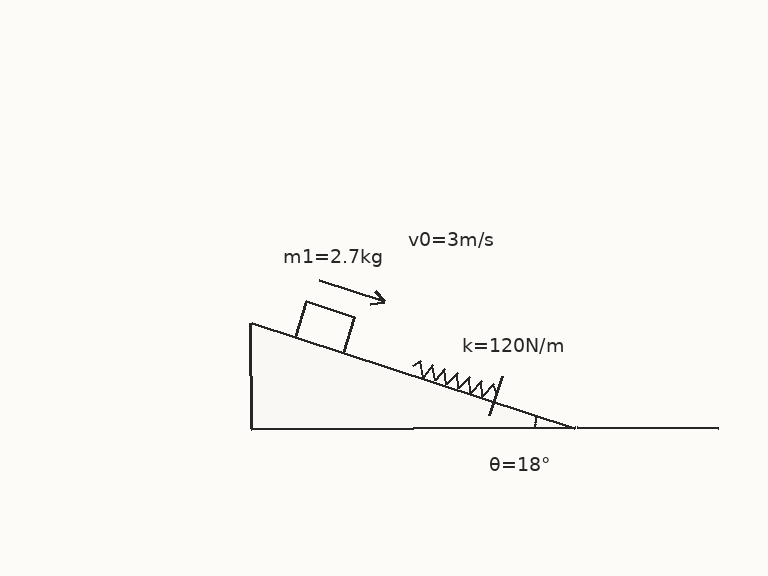block: (293, 299, 357, 355)
ramp: (249, 321, 577, 430)
spring: (410, 359, 499, 398)
